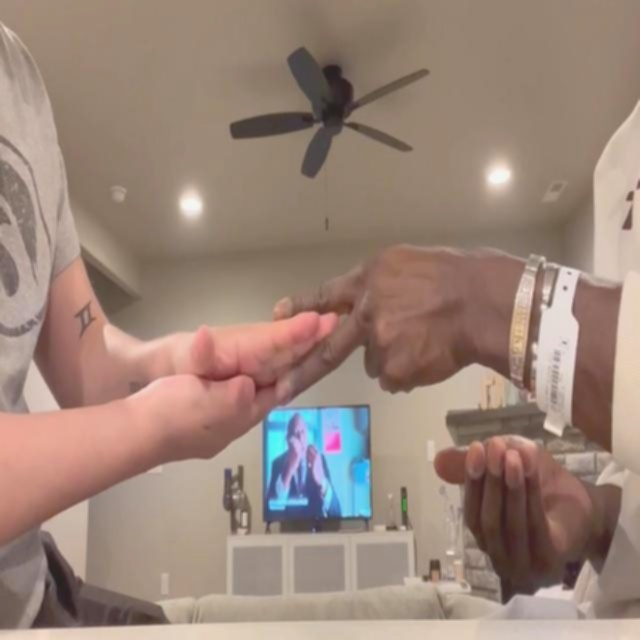Scissors: (272, 242, 486, 409), (170, 307, 335, 380)
